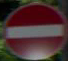No entry: (5, 4, 61, 51)
